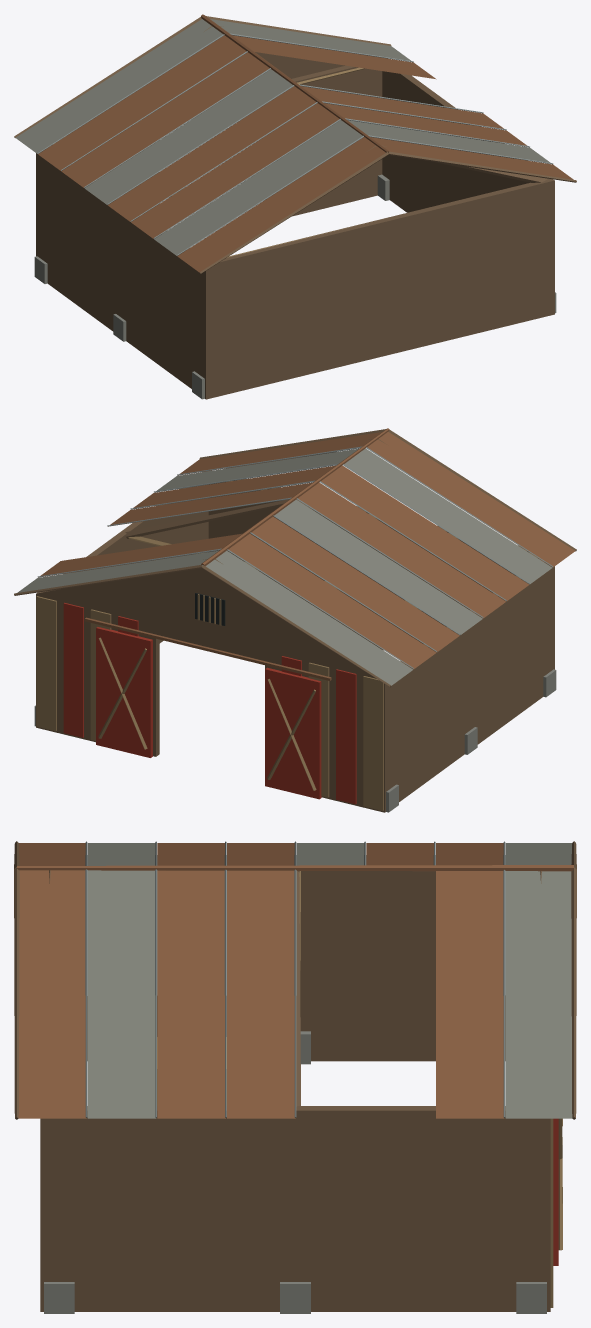
Rendered from barn.glb.
3 views of the same model, one above another, from view 1: azimuth 30°, elevation 25°; view 2: azimuth 150°, elevation 25°; view 3: azimuth 270°, elevation 25° (orthographic). The views are drawn at different scales.
Parts seen in each view (by area): view 1: barn_visual; view 2: barn_visual; view 3: barn_visual.
Part boxes in pixels (x1,y1,x2,y2): barn_visual: [14, 14, 576, 399]; barn_visual: [14, 428, 576, 812]; barn_visual: [14, 841, 576, 1313].
Size of what is drawn, in the model's own units: 13.83 by 7.46 by 11.92.
